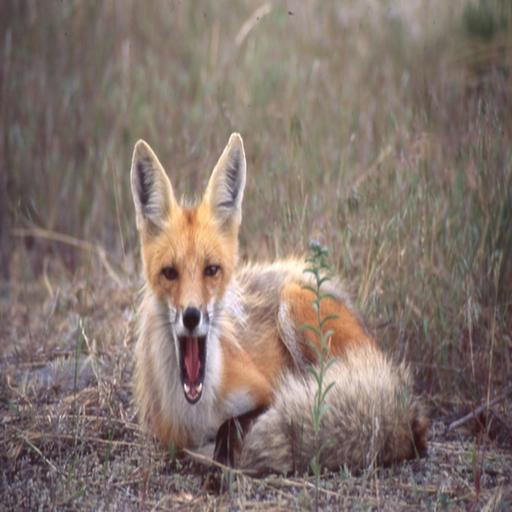Fox: (120, 109, 424, 488)
